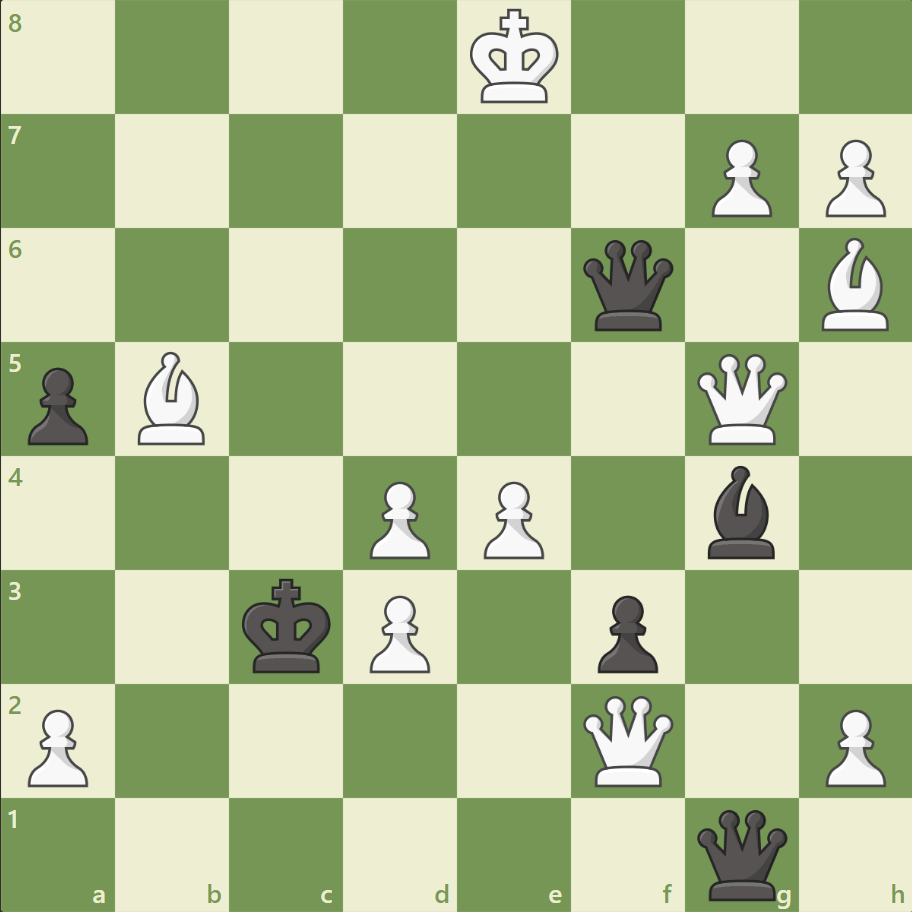B: (812, 233, 896, 336), (131, 347, 215, 449)
K: (465, 4, 565, 112)
P: (701, 132, 776, 223), (474, 473, 549, 564), (20, 700, 95, 791), (815, 132, 889, 223), (361, 473, 435, 564), (361, 586, 435, 677), (815, 700, 889, 791)
Q: (691, 349, 790, 449), (578, 690, 677, 789)
b: (698, 460, 782, 563)
k: (238, 571, 338, 679)
p: (20, 359, 95, 450), (588, 586, 662, 677)
q: (578, 236, 677, 335), (691, 804, 790, 903)
